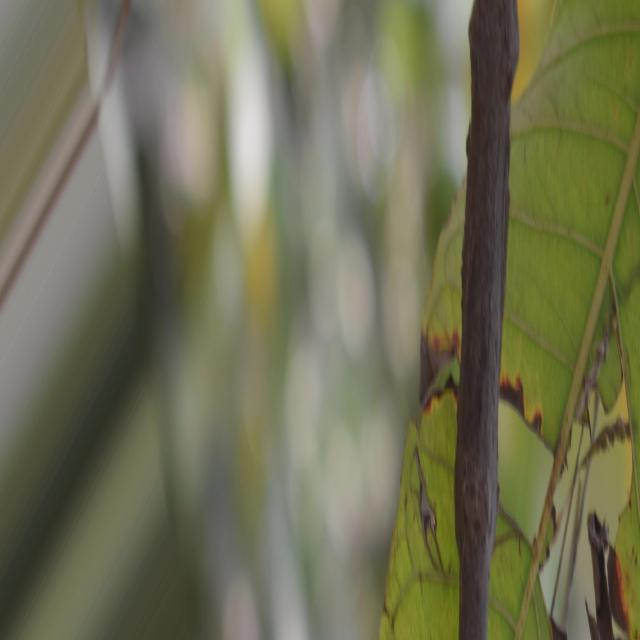Dot: (489, 2, 640, 639), (380, 186, 465, 639)
